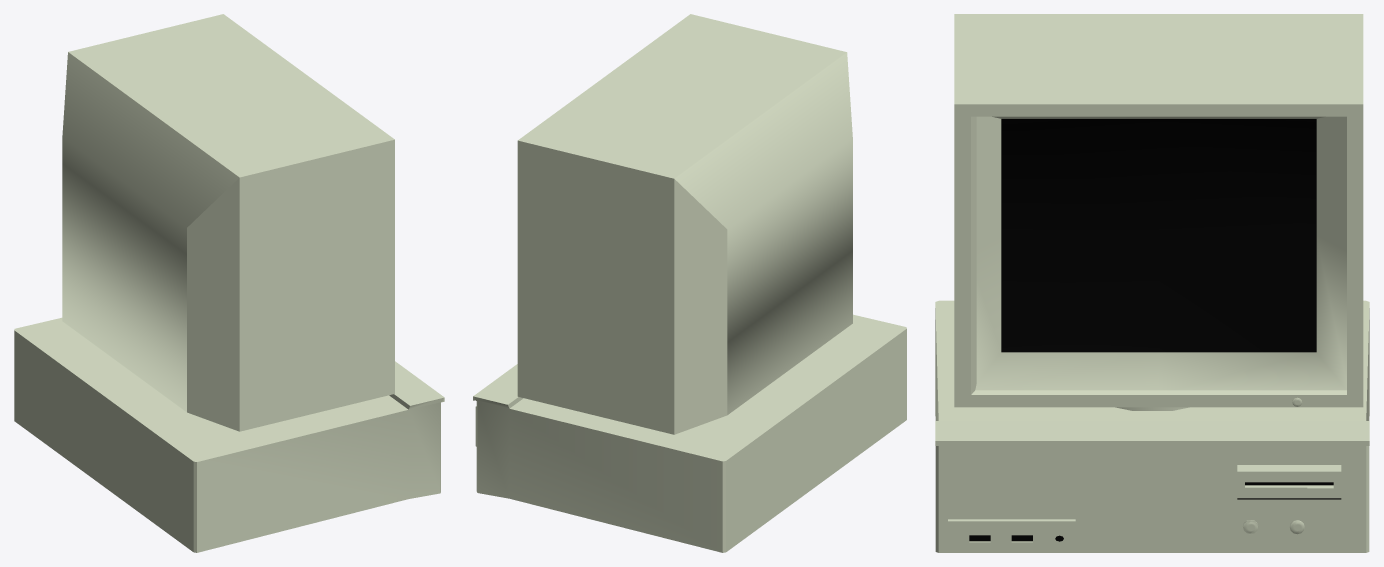
The model's file is monitor.fbx.
3 views of the same model, side by side, from view 1: azimuth 30°, elevation 25°; view 2: azimuth 150°, elevation 25°; view 3: azimuth 270°, elevation 25° (orthographic). The views are drawn at different scales.
Parts seen in each view (by area): view 1: Cylinder, Cube.001; view 2: Cylinder, Cube.001; view 3: Cylinder, Cube.001.
Boxes of the visible parts, bbox=[...] form: Cylinder: bbox=[62, 14, 394, 431]; Cube.001: bbox=[14, 317, 444, 552]; Cylinder: bbox=[517, 14, 852, 434]; Cube.001: bbox=[473, 314, 906, 552]; Cylinder: bbox=[954, 14, 1363, 410]; Cube.001: bbox=[935, 300, 1369, 552].
Bounding box in the file's own units: 121 × 159 × 147.
